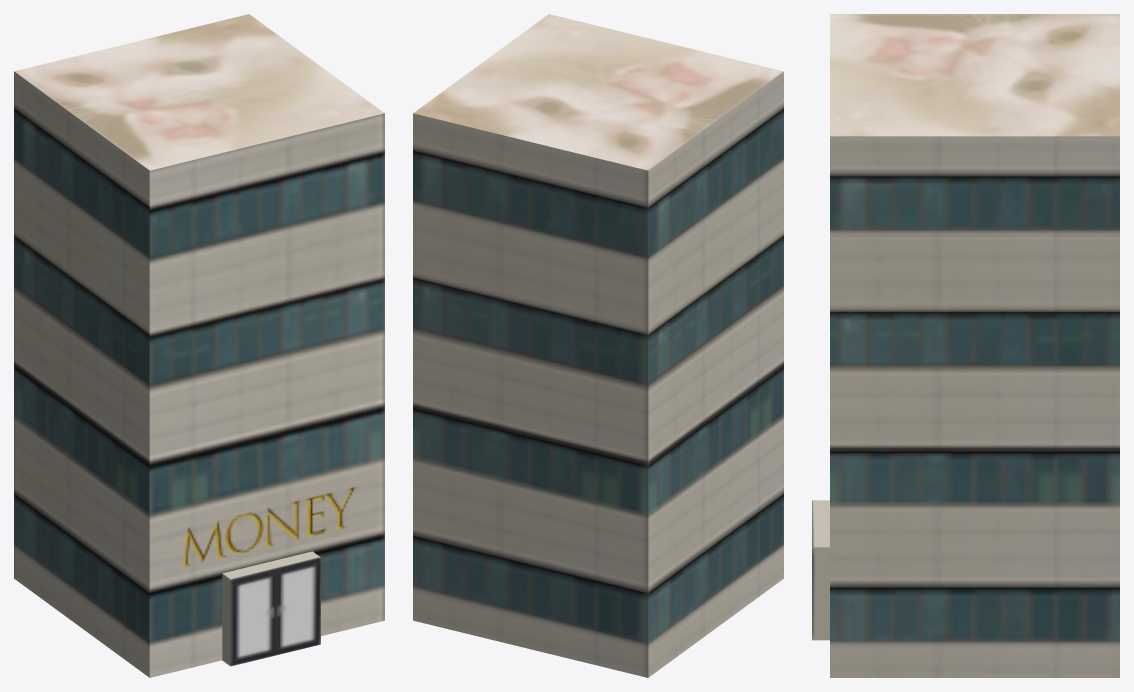
The model's file is Building4_High.fbx.
The picture shows the model from 3 angles, left to right: view 1: azimuth 30°, elevation 25°; view 2: azimuth 150°, elevation 25°; view 3: azimuth 270°, elevation 25°; orthographic projection. The views are drawn at different scales.
Parts seen in each view (by area): view 1: Cube; view 2: Cube; view 3: Cube.
Boxes of the visible parts, x1,y1,x2,y2 form: Cube: (14,14,384,677); Cube: (413,14,783,677); Cube: (812,14,1119,677).
Bounding box in the file's own units: 200 × 412 × 212.
